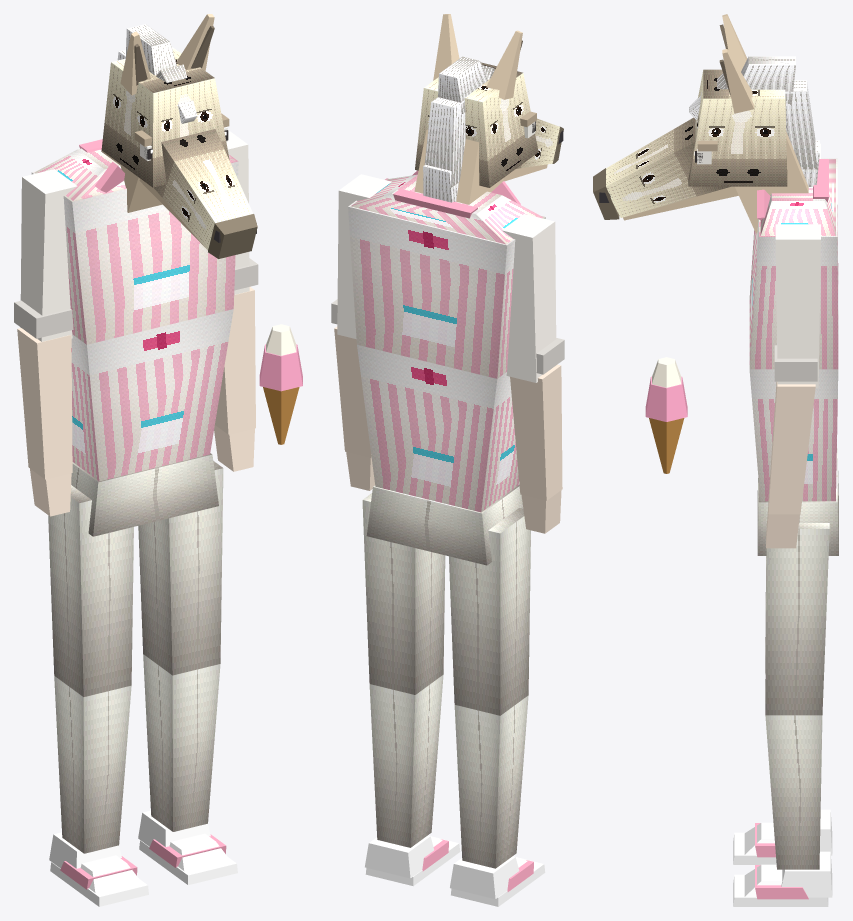
File: npc_ice_cream_horse.glb
3 renders of one model, left to right at view 1: azimuth 30°, elevation 25°; view 2: azimuth 150°, elevation 25°; view 3: azimuth 270°, elevation 25°, orthographic. The views are drawn at different scales.
Parts seen in each view (by area): view 1: body, legL, legR, head, armL, armR; view 2: body, legL, legR, head, armL, armR; view 3: head, legR, body, armR, legL.
Boxes of the visible parts, x1=… form: body: x1=31, y1=139, x2=302, y2=536; legL: x1=48, y1=485, x2=148, y2=906; legR: x1=138, y1=461, x2=237, y2=885; head: x1=101, y1=14, x2=257, y2=258; armL: x1=14, y1=169, x2=77, y2=516; armR: x1=214, y1=130, x2=258, y2=471; body: x1=348, y1=170, x2=545, y2=565; legL: x1=449, y1=508, x2=545, y2=906; legR: x1=362, y1=493, x2=460, y2=886; head: x1=414, y1=14, x2=563, y2=204; armL: x1=502, y1=214, x2=564, y2=533; armR: x1=331, y1=174, x2=391, y2=490; head: x1=593, y1=14, x2=819, y2=233; legR: x1=733, y1=523, x2=832, y2=906; body: x1=645, y1=158, x2=838, y2=555; armR: x1=766, y1=224, x2=820, y2=548; legL: x1=733, y1=556, x2=832, y2=864.
Bounding box in the file's own units: 0.5751 × 2.15 × 0.5693.
21 materials, 4 textured.
